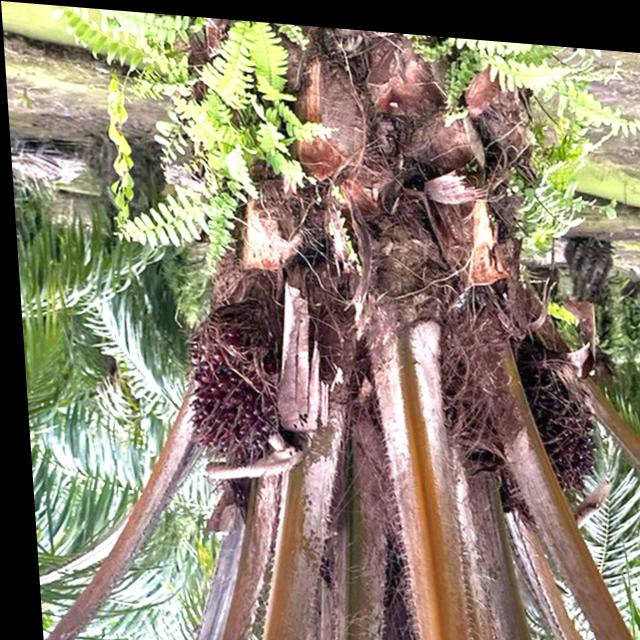ripe: (162, 284, 301, 473)
